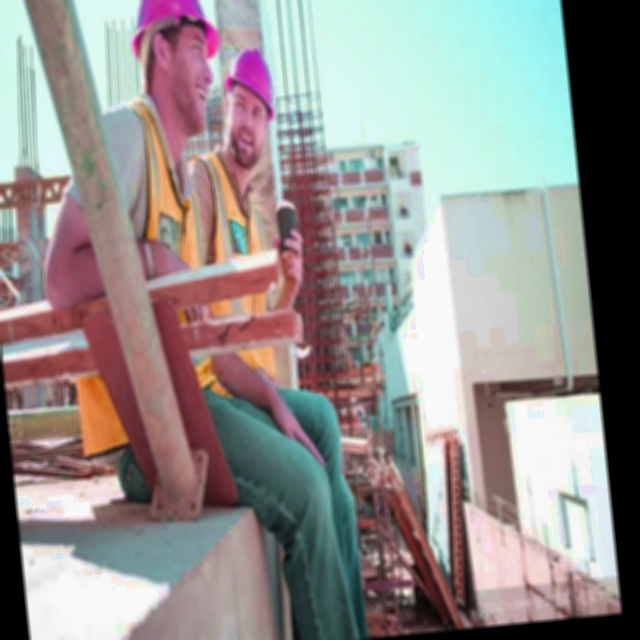Con_Chaleco: (47, 113, 221, 450), (185, 151, 289, 374)
